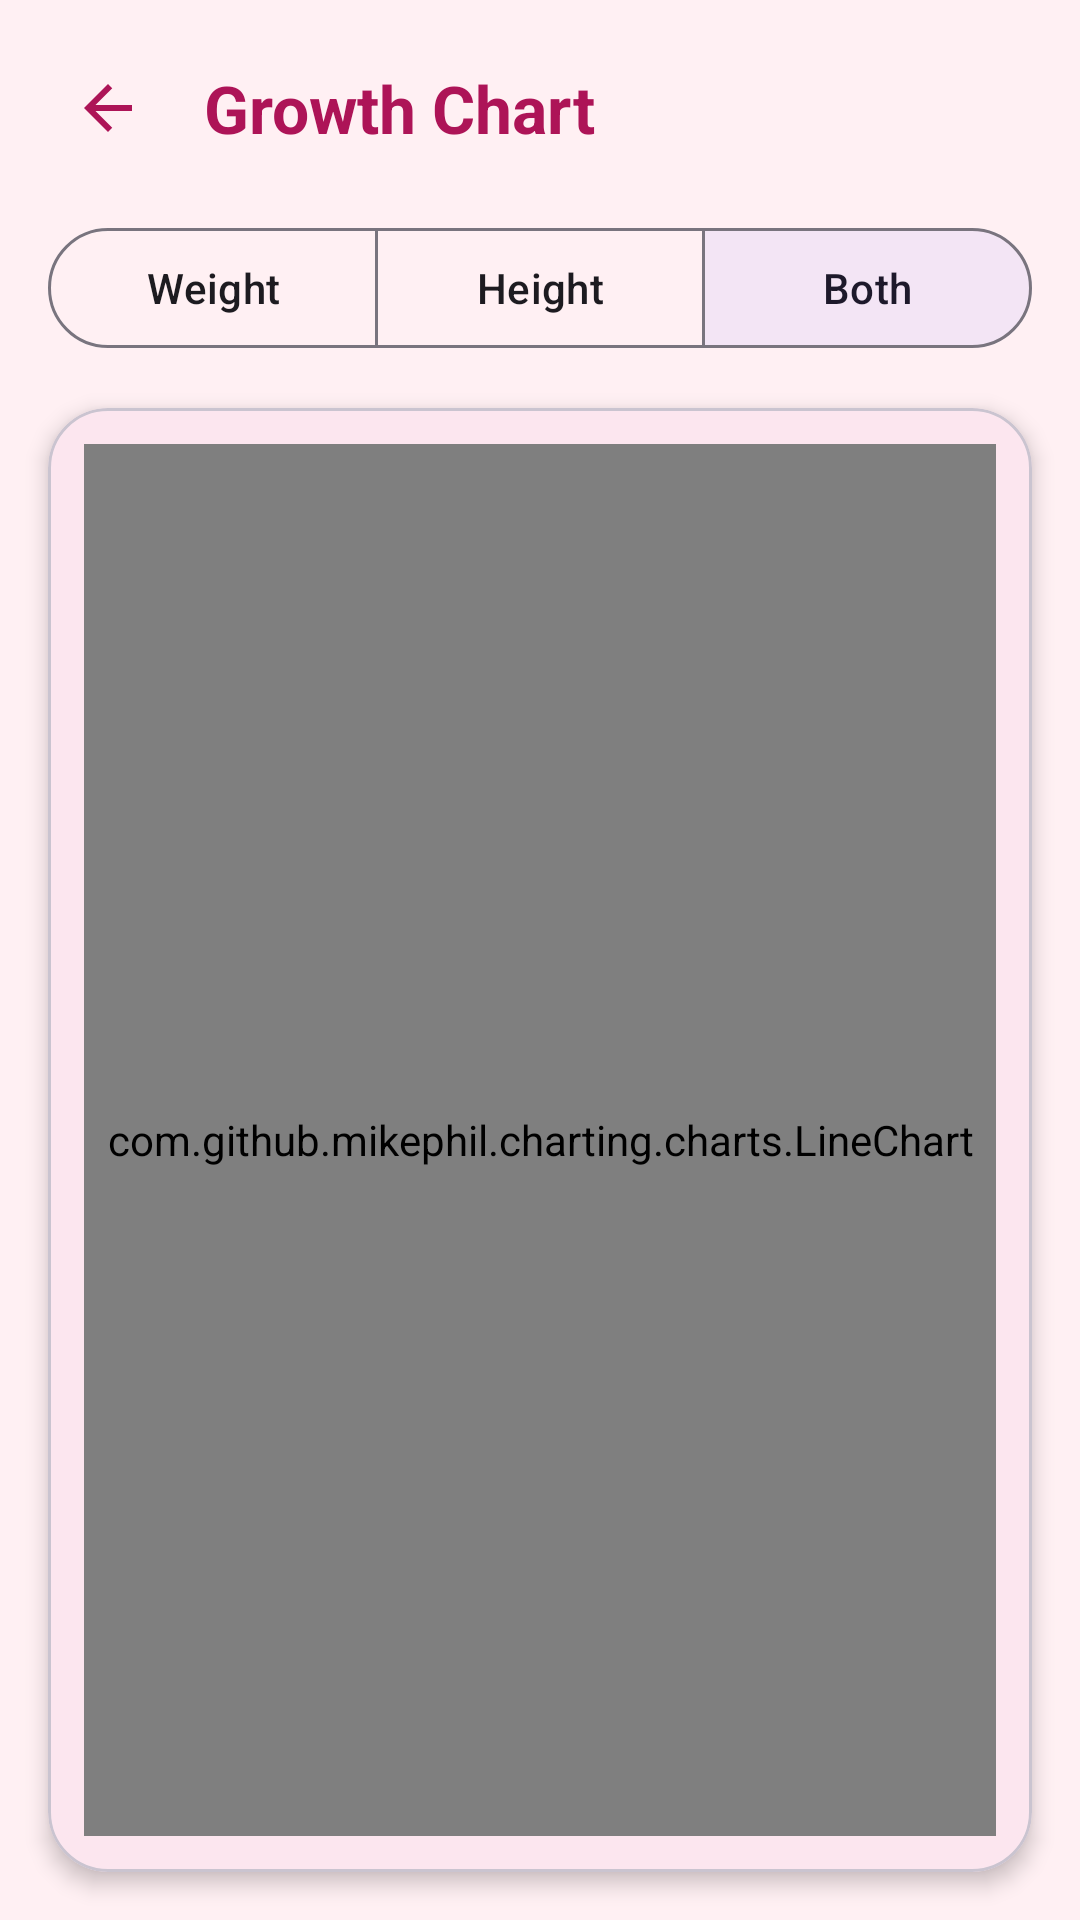

Screen size 1080px×1920px. Icon name, then its center in pixels as point (x, y):
Navigate back: point (108, 108)
